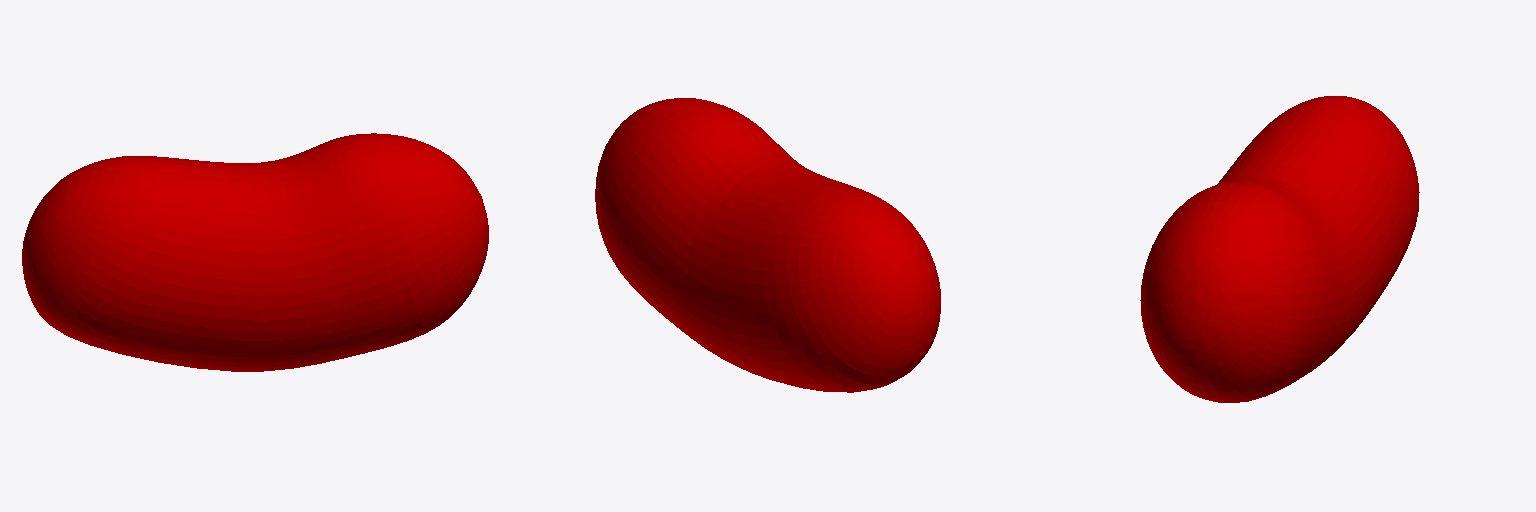
Rendered from candy2.obj.
The picture shows the model from 3 angles: view 1: azimuth 30°, elevation 25°; view 2: azimuth 150°, elevation 25°; view 3: azimuth 270°, elevation 25°; orthographic projection.
Parts seen in each view (by area): view 1: Red_Stripes_Stripe_Red; view 2: Red_Stripes_Stripe_Red; view 3: Red_Stripes_Stripe_Red.
Part boxes in pixels (x1,y1,x2,y2): Red_Stripes_Stripe_Red: (22, 133, 488, 371); Red_Stripes_Stripe_Red: (595, 98, 940, 392); Red_Stripes_Stripe_Red: (1140, 96, 1419, 402).
Size of the model in its own units: 1.07 by 0.5789 by 0.6725.